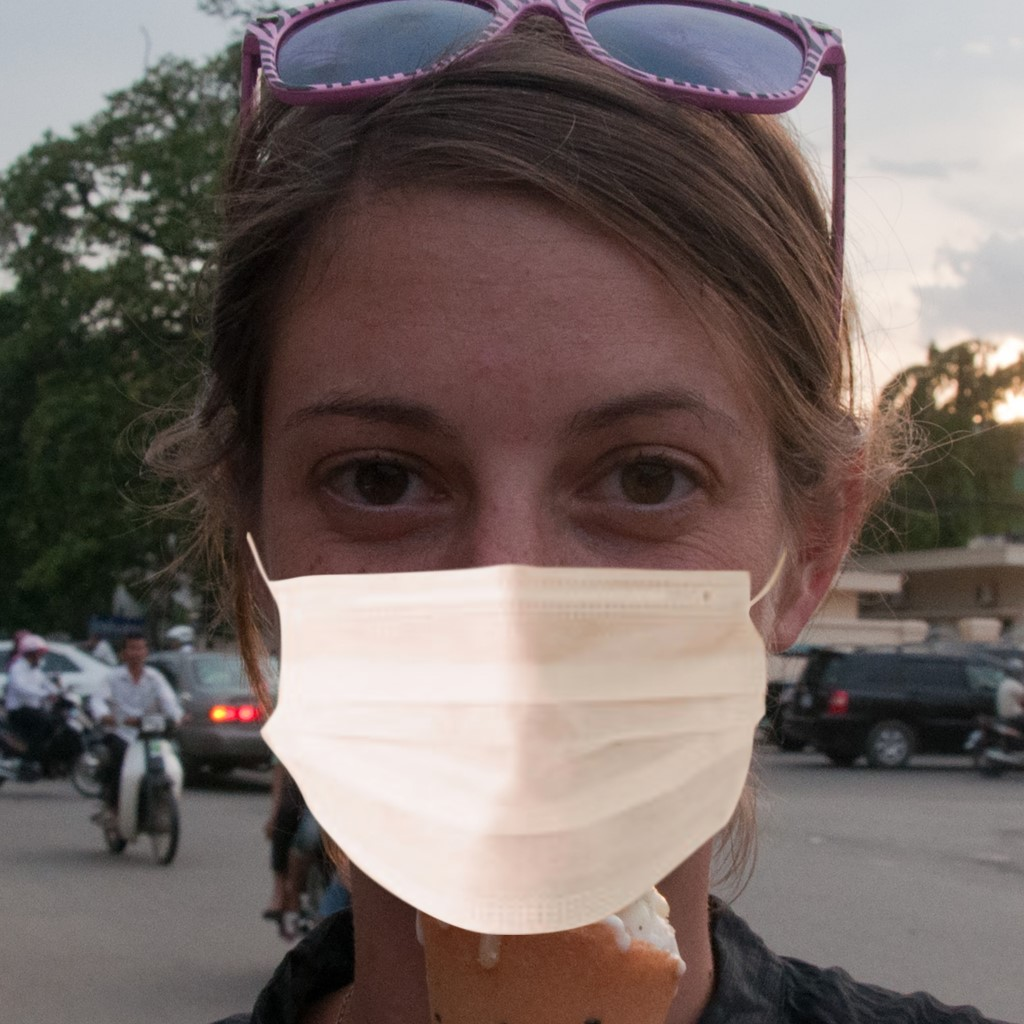con_mascara: (230, 128, 794, 902)
